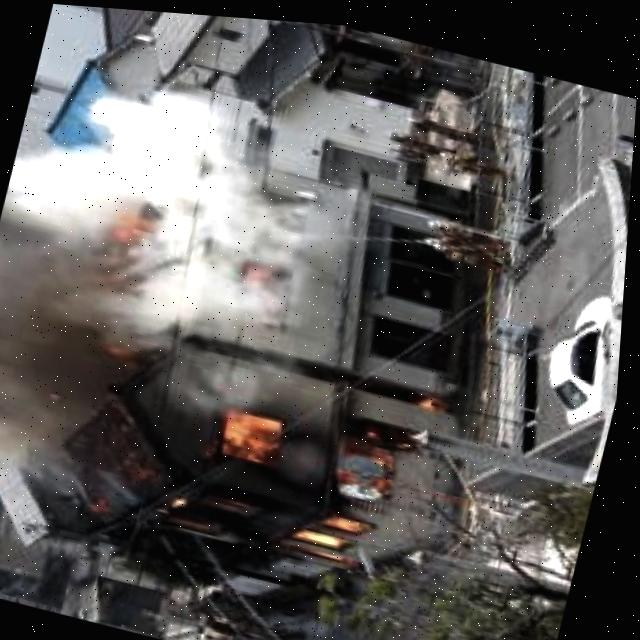Fire: (131, 328, 467, 589)
Smoke: (0, 45, 211, 501), (162, 98, 347, 356)
